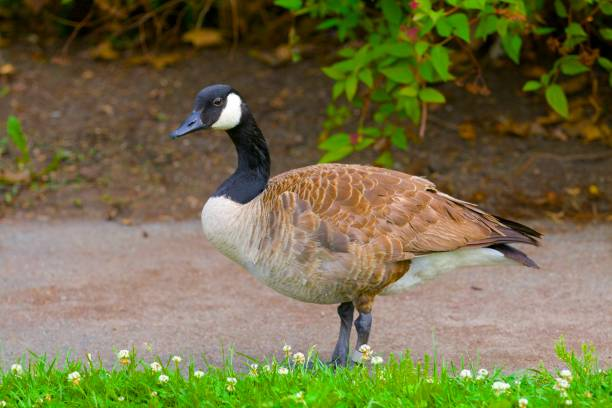goose: (166, 82, 545, 368)
